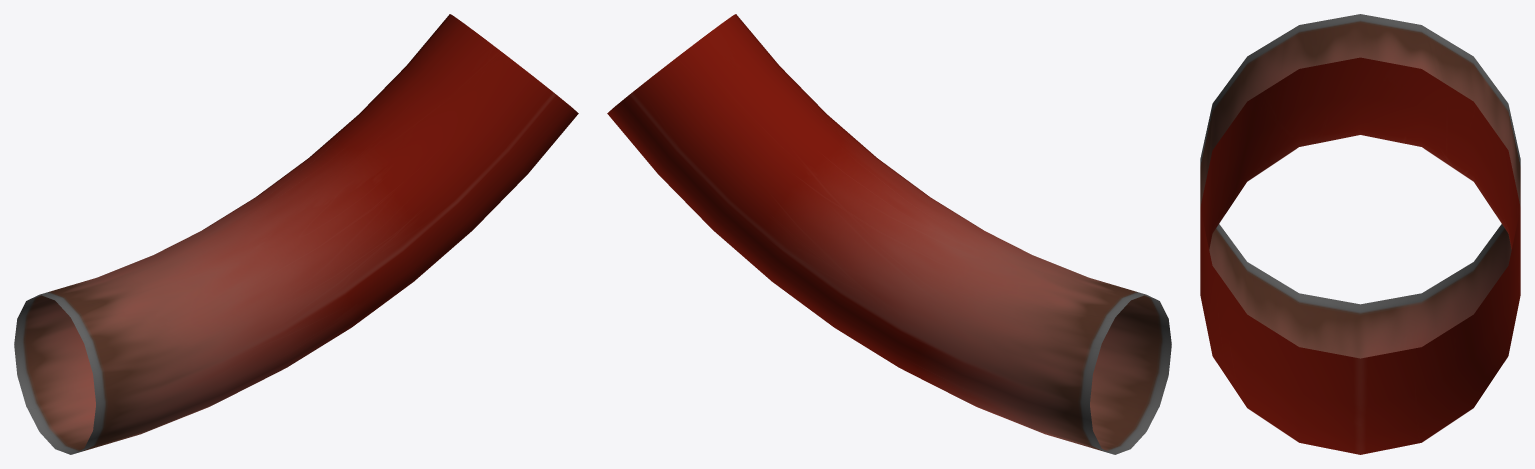
The model's file is pipe01_corner_128a.fbx.
The picture shows the model from 3 angles, left to right: view 1: azimuth 30°, elevation 25°; view 2: azimuth 150°, elevation 25°; view 3: azimuth 270°, elevation 25°; orthographic projection. The views are drawn at different scales.
Visible parts, largest first — view 1: pipe01_corner_128a; view 2: pipe01_corner_128a; view 3: pipe01_corner_128a.
Part boxes in pixels (x1=…): pipe01_corner_128a: x1=14, y1=14, x2=578, y2=454; pipe01_corner_128a: x1=607, y1=14, x2=1171, y2=454; pipe01_corner_128a: x1=1200, y1=14, x2=1520, y2=454.
Bounding box in the file's own units: 50.2 × 30.69 × 14.
